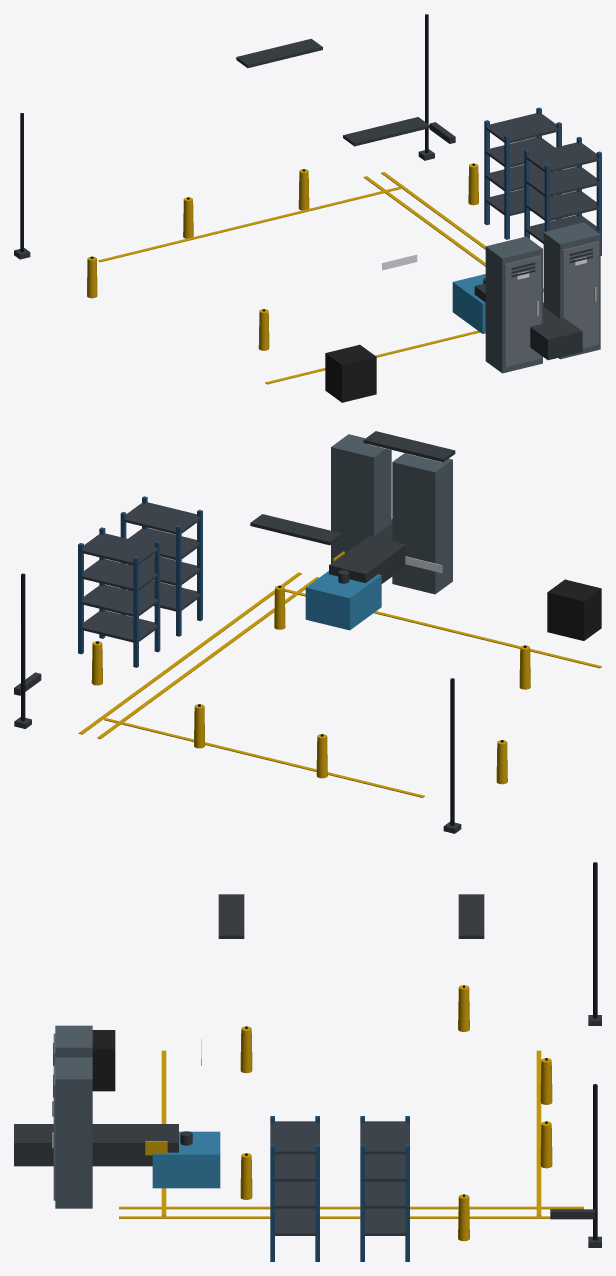
3 views of the same model, one above another, from view 1: azimuth 30°, elevation 25°; view 2: azimuth 150°, elevation 25°; view 3: azimuth 270°, elevation 25° (orthographic). The views are drawn at different scales.
Visible parts, largest first — view 1: cabinet:1:body, cabinet:1:door, cabinet:2:door, cabinet:2:body, chip:bin, chip:body, chip:coolant-tank, buffer:1:shelf:1.6, buffer:2:shelf:1.6, buffer:2:shelf:1.2, buffer:2:shelf:0.8, worklight:2:frame (+12 smaller); view 2: cabinet:1:body, cabinet:2:body, chip:coolant-tank, chip:bin, chip:body, buffer:1:shelf:1.6, buffer:2:shelf:1.6, buffer:1:shelf:0.4, buffer:1:shelf:0.8, buffer:1:shelf:1.2, worklight:1:frame, worklight:2:frame (+14 smaller); view 3: cabinet:2:body, chip:body, chip:coolant-tank, buffer:1:shelf:1.6, buffer:2:shelf:1.6, chip:bin, marking:pedestrian:left, cabinet:1:body, worklight:1:frame, worklight:2:frame, buffer:1:shelf:0.4, buffer:2:shelf:0.4 (+19 smaller).
Boxes of the visible parts, bbox=[...] form: cabinet:1:body: bbox=[485, 236, 542, 373]; cabinet:1:door: bbox=[504, 255, 541, 367]; cabinet:2:door: bbox=[562, 241, 598, 348]; cabinet:2:body: bbox=[543, 222, 600, 359]; chip:bin: bbox=[325, 344, 376, 402]; chip:body: bbox=[474, 283, 582, 360]; chip:coolant-tank: bbox=[452, 274, 485, 333]; buffer:1:shelf:1.6: bbox=[484, 113, 561, 143]; buffer:2:shelf:1.6: bbox=[524, 142, 598, 172]; buffer:2:shelf:1.2: bbox=[526, 166, 600, 197]; buffer:2:shelf:0.8: bbox=[526, 191, 601, 221]; worklight:2:frame: bbox=[236, 38, 322, 68]; cabinet:1:body: bbox=[392, 453, 452, 594]; cabinet:2:body: bbox=[331, 434, 391, 563]; chip:coolant-tank: bbox=[305, 571, 381, 630]; chip:bin: bbox=[547, 579, 601, 640]; chip:body: bbox=[329, 519, 406, 583]; buffer:1:shelf:1.6: bbox=[78, 533, 159, 565]; buffer:2:shelf:1.6: bbox=[120, 502, 202, 534]; buffer:1:shelf:0.4: bbox=[82, 610, 160, 643]; buffer:1:shelf:0.8: bbox=[78, 584, 159, 616]; buffer:1:shelf:1.2: bbox=[82, 559, 159, 591]; worklight:1:frame: bbox=[363, 431, 455, 462]; worklight:2:frame: bbox=[250, 514, 342, 545]; cabinet:2:body: bbox=[55, 1057, 92, 1208]; chip:body: bbox=[14, 1124, 178, 1166]; chip:coolant-tank: bbox=[152, 1131, 220, 1188]; buffer:1:shelf:1.6: bbox=[360, 1121, 409, 1154]; buffer:2:shelf:1.6: bbox=[270, 1121, 319, 1154]; chip:bin: bbox=[92, 1030, 115, 1091]; marking:pedestrian:left: bbox=[119, 1206, 583, 1209]; cabinet:1:body: bbox=[55, 1025, 92, 1057]; worklight:1:frame: bbox=[218, 894, 244, 938]; worklight:2:frame: bbox=[458, 894, 484, 938]; buffer:1:shelf:0.4: bbox=[360, 1208, 409, 1235]; buffer:2:shelf:0.4: bbox=[270, 1208, 319, 1235].
Bounding box in the file's own units: 7.62 × 3.23 × 7.84.
